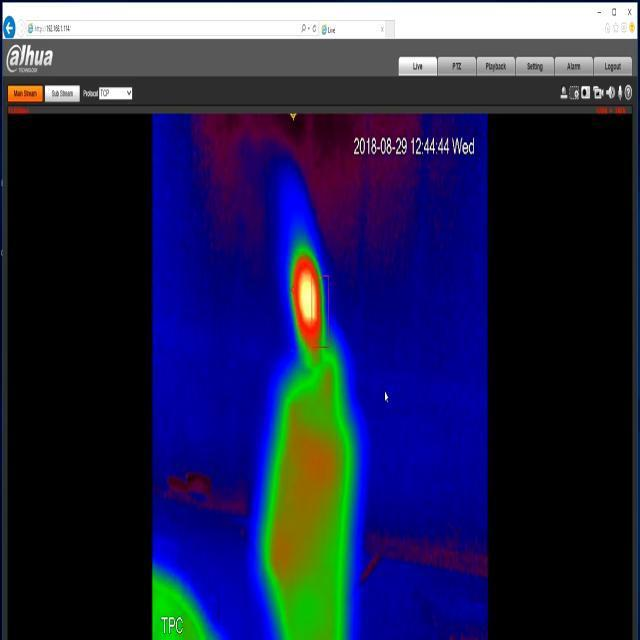fire: (285, 214, 329, 365)
